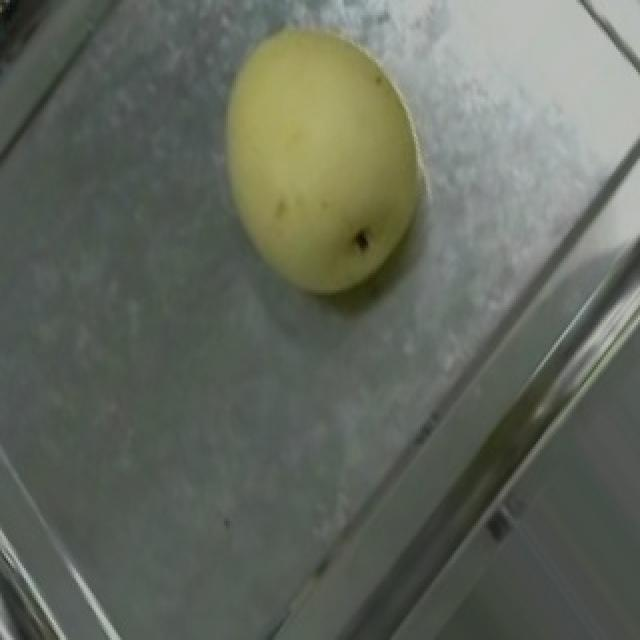Fruit: (174, 0, 480, 337)
